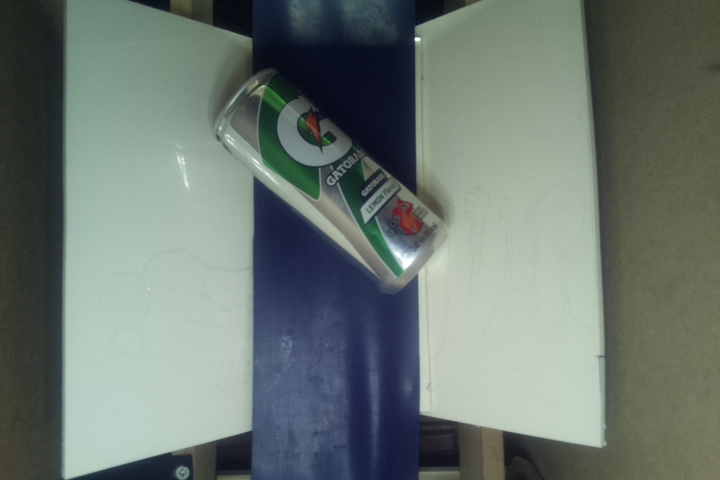can: (213, 67, 445, 293)
